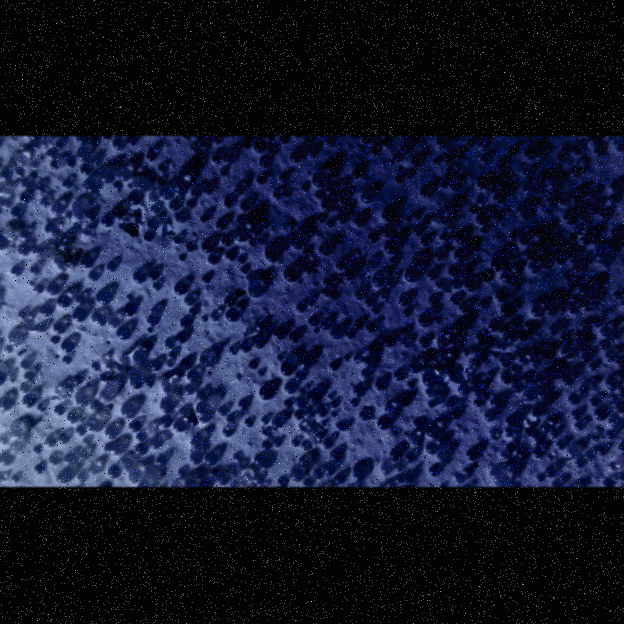GrassBeadSeg: (311, 171, 328, 188), (320, 197, 336, 213), (287, 466, 303, 482), (421, 372, 437, 388), (416, 312, 432, 328), (383, 239, 399, 255), (232, 226, 248, 242), (119, 403, 136, 418), (98, 169, 114, 184), (7, 331, 23, 346), (403, 268, 419, 283), (371, 273, 387, 288), (282, 268, 299, 282), (104, 442, 123, 454), (172, 178, 187, 193), (198, 351, 213, 366), (279, 361, 294, 376), (158, 399, 174, 413), (424, 424, 440, 438), (115, 167, 131, 181), (83, 179, 99, 193), (71, 308, 87, 322), (340, 268, 357, 281), (247, 285, 264, 298), (264, 250, 280, 263), (288, 236, 304, 249), (56, 470, 72, 483), (534, 374, 550, 387), (32, 245, 49, 257), (225, 308, 239, 322), (258, 386, 272, 400), (95, 291, 110, 304), (499, 305, 514, 318), (49, 204, 64, 217), (489, 259, 504, 272), (44, 223, 59, 236), (317, 244, 333, 256), (375, 417, 391, 429), (271, 328, 287, 340), (172, 420, 188, 432), (295, 224, 311, 236), (449, 322, 465, 334), (298, 357, 314, 369), (203, 455, 217, 468), (127, 470, 141, 483), (55, 295, 69, 308), (106, 467, 121, 479), (351, 385, 366, 397), (103, 427, 118, 439), (126, 193, 141, 205), (282, 382, 297, 394), (200, 241, 215, 253), (250, 337, 265, 349), (78, 257, 93, 269), (560, 346, 575, 358), (562, 212, 575, 225), (39, 304, 52, 317), (173, 283, 187, 295), (397, 295, 411, 307), (387, 449, 401, 461), (367, 344, 381, 356), (329, 328, 344, 339), (126, 421, 141, 432), (489, 398, 504, 409), (218, 236, 234, 246), (46, 283, 59, 295), (530, 305, 543, 317), (435, 337, 448, 349), (544, 194, 557, 206), (548, 177, 561, 189), (578, 285, 591, 297), (591, 272, 604, 284), (515, 204, 528, 216), (434, 212, 447, 224), (107, 316, 120, 328), (116, 328, 129, 340), (179, 358, 192, 370), (132, 355, 145, 367), (186, 371, 199, 383), (253, 454, 266, 466), (270, 417, 283, 429), (89, 401, 102, 413), (188, 453, 201, 465), (132, 273, 146, 284), (86, 271, 100, 282), (426, 466, 440, 477), (21, 396, 35, 407), (60, 341, 74, 352), (456, 384, 470, 395), (121, 305, 135, 316), (464, 449, 478, 460), (158, 417, 172, 428), (148, 438, 162, 449), (521, 391, 535, 402), (380, 463, 392, 475), (527, 262, 539, 274), (398, 143, 410, 155), (336, 192, 348, 204), (359, 192, 371, 204), (289, 151, 301, 163), (222, 153, 234, 165), (159, 188, 171, 200), (146, 219, 158, 231), (111, 207, 123, 219), (100, 215, 112, 227), (597, 339, 609, 351), (500, 271, 512, 283), (419, 187, 431, 199), (566, 394, 579, 405), (134, 444, 147, 455), (393, 370, 406, 381), (403, 452, 416, 463), (65, 413, 78, 424), (52, 323, 65, 334), (568, 191, 581, 202), (396, 396, 409, 407), (406, 433, 419, 444), (584, 190, 597, 201), (174, 333, 187, 344), (140, 340, 153, 351), (179, 318, 192, 329), (177, 407, 190, 418), (293, 396, 306, 407), (98, 391, 111, 402), (75, 396, 88, 407), (84, 419, 97, 430), (287, 333, 301, 343), (482, 411, 496, 421), (424, 443, 438, 453), (329, 451, 343, 461), (407, 363, 421, 373), (246, 213, 260, 223), (191, 468, 205, 478), (579, 303, 594, 312), (214, 220, 226, 231), (523, 149, 535, 160), (436, 451, 448, 462), (91, 314, 103, 325), (521, 184, 533, 195), (435, 136, 447, 147), (258, 156, 269, 168), (252, 141, 264, 152), (187, 158, 199, 169), (112, 140, 124, 151), (382, 336, 394, 347), (505, 460, 516, 472), (607, 416, 619, 427), (605, 378, 616, 390), (511, 381, 522, 393), (500, 372, 511, 384), (464, 280, 475, 292), (367, 232, 378, 244), (381, 210, 392, 222), (0, 455, 12, 466), (238, 343, 251, 353), (223, 251, 236, 261), (492, 194, 505, 204), (411, 226, 424, 236), (607, 182, 620, 192), (129, 380, 142, 390), (544, 305, 557, 315), (173, 214, 187, 223), (494, 160, 505, 171), (477, 139, 488, 150), (410, 156, 421, 167), (418, 337, 429, 348), (516, 448, 527, 459), (489, 468, 500, 479), (594, 409, 605, 420), (479, 272, 490, 283), (433, 250, 444, 261), (419, 236, 430, 247), (453, 232, 464, 243), (453, 251, 464, 262), (475, 214, 486, 225), (353, 216, 364, 227), (155, 456, 167, 466), (334, 261, 346, 271), (586, 205, 598, 215), (471, 385, 483, 395), (598, 211, 610, 221), (75, 152, 87, 162), (9, 208, 21, 218), (222, 297, 235, 306), (335, 422, 348, 431), (301, 265, 314, 274), (299, 441, 312, 450), (603, 353, 616, 362), (352, 291, 365, 300), (530, 448, 543, 457), (363, 298, 376, 307), (375, 289, 388, 298), (547, 326, 558, 336), (454, 473, 465, 483), (412, 419, 423, 429), (0, 399, 10, 410), (126, 136, 137, 146), (79, 165, 90, 175), (17, 245, 28, 255), (472, 398, 484, 407), (343, 330, 355, 339), (491, 214, 503, 223), (48, 456, 60, 465), (134, 433, 146, 442), (606, 196, 618, 205), (319, 288, 331, 297), (70, 376, 82, 385), (392, 463, 404, 472), (445, 398, 457, 407), (318, 320, 330, 329), (522, 170, 534, 179), (462, 367, 474, 376), (609, 228, 621, 237), (379, 228, 391, 237), (460, 266, 473, 274), (215, 476, 228, 484), (277, 136, 290, 144), (339, 179, 349, 189), (239, 202, 249, 212), (155, 177, 165, 187), (145, 152, 155, 162), (90, 157, 100, 167), (150, 361, 160, 371), (183, 296, 193, 306), (225, 414, 235, 424), (237, 399, 247, 409), (189, 437, 199, 447), (328, 361, 338, 371), (360, 369, 370, 379), (333, 474, 343, 484), (276, 477, 286, 487), (566, 304, 576, 314), (74, 426, 84, 436), (207, 256, 218, 265), (294, 304, 305, 313), (449, 410, 460, 419), (33, 465, 44, 474), (200, 275, 211, 284), (105, 263, 116, 272), (351, 321, 362, 330), (307, 317, 318, 326), (487, 431, 498, 440), (397, 329, 409, 337), (518, 236, 527, 246), (313, 190, 323, 199), (587, 136, 597, 145), (534, 232, 544, 241), (561, 272, 571, 281), (553, 256, 563, 265), (570, 147, 580, 156), (555, 153, 565, 162), (592, 147, 602, 156), (595, 253, 604, 263), (494, 182, 504, 191), (403, 171, 413, 180), (465, 139, 475, 148), (356, 160, 366, 169), (278, 174, 288, 183), (267, 146, 276, 156), (255, 176, 265, 185), (211, 136, 221, 145), (202, 186, 212, 195), (222, 199, 232, 208), (233, 187, 243, 196), (157, 164, 167, 173), (190, 190, 200, 199), (168, 202, 178, 211), (112, 181, 122, 190), (148, 193, 157, 203), (142, 233, 152, 242), (61, 180, 71, 189), (34, 183, 43, 193), (19, 194, 29, 203), (21, 180, 30, 190), (29, 266, 39, 275), (10, 267, 20, 276), (167, 350, 177, 359), (210, 312, 219, 322), (183, 386, 193, 395), (187, 416, 196, 426), (260, 441, 270, 450), (304, 409, 314, 418), (283, 399, 292, 409), (352, 472, 362, 481), (308, 392, 318, 401), (358, 411, 368, 420), (298, 457, 307, 467), (294, 372, 304, 381), (446, 349, 456, 358), (471, 347, 480, 357), (517, 356, 527, 365), (499, 328, 509, 337), (544, 467, 553, 477), (604, 431, 614, 440), (590, 318, 600, 327), (557, 333, 566, 343), (599, 328, 609, 337), (458, 303, 467, 313), (337, 214, 346, 224), (88, 466, 98, 475), (77, 450, 86, 460), (63, 455, 73, 464), (75, 473, 85, 482), (57, 434, 66, 444), (404, 381, 415, 389), (424, 389, 435, 397), (352, 356, 363, 364), (331, 277, 342, 285), (536, 244, 545, 253), (572, 242, 581, 251), (536, 152, 545, 161), (570, 168, 579, 177), (571, 264, 580, 273), (608, 136, 617, 145), (449, 182, 458, 191), (479, 156, 488, 165), (351, 170, 360, 179), (326, 185, 335, 194), (272, 190, 281, 199), (241, 140, 250, 149), (211, 155, 220, 164), (200, 141, 209, 150), (189, 144, 198, 153), (185, 200, 194, 209), (150, 205, 159, 214), (85, 211, 94, 220), (39, 199, 48, 208), (33, 285, 42, 294), (164, 340, 173, 349), (146, 316, 155, 325), (228, 346, 237, 355), (248, 360, 257, 369), (222, 428, 231, 437), (217, 407, 226, 416), (243, 418, 252, 427), (312, 470, 321, 479), (282, 410, 291, 419), (322, 440, 331, 449), (323, 466, 332, 475), (302, 478, 311, 487), (316, 408, 325, 417), (474, 333, 483, 342), (449, 338, 458, 347), (374, 381, 383, 390), (384, 404, 393, 413), (365, 324, 374, 333), (498, 356, 507, 365), (487, 324, 496, 333), (561, 376, 570, 385), (539, 423, 548, 432), (555, 441, 564, 450), (583, 451, 592, 460), (601, 478, 610, 487), (596, 447, 605, 456), (588, 397, 597, 406), (580, 354, 589, 363), (451, 280, 460, 289), (428, 297, 437, 306), (449, 296, 458, 305), (477, 300, 486, 309), (494, 293, 503, 302), (446, 268, 455, 277), (426, 271, 435, 280), (523, 251, 532, 260), (508, 233, 517, 242), (389, 257, 398, 266), (315, 214, 324, 223), (236, 256, 245, 265), (44, 438, 53, 447), (401, 309, 411, 317), (61, 356, 71, 364), (293, 411, 303, 419), (573, 423, 583, 431), (570, 411, 580, 419), (239, 266, 249, 274), (74, 297, 84, 305), (257, 323, 267, 331), (369, 148, 379, 156), (147, 272, 157, 280), (151, 283, 162, 290), (301, 249, 312, 256), (578, 236, 587, 244), (235, 216, 244, 224), (565, 254, 574, 262), (506, 148, 515, 156), (441, 156, 450, 164), (438, 180, 446, 189), (300, 183, 308, 192), (0, 172, 8, 181), (574, 459, 582, 468), (468, 207, 476, 215), (392, 154, 400, 162), (394, 176, 402, 184), (453, 153, 461, 161), (380, 139, 388, 147), (326, 148, 334, 156), (324, 139, 332, 147), (307, 151, 315, 159), (3, 346, 11, 354), (23, 374, 31, 382), (19, 385, 27, 393), (422, 216, 430, 224), (325, 220, 333, 228), (330, 169, 338, 177), (256, 370, 265, 377), (370, 308, 379, 315), (125, 295, 134, 302), (427, 400, 436, 407), (0, 437, 9, 444), (187, 309, 196, 316), (276, 355, 284, 362), (560, 243, 568, 250), (578, 216, 586, 223), (18, 311, 25, 319), (20, 362, 27, 370), (49, 337, 57, 344), (90, 363, 98, 370), (99, 376, 107, 383), (99, 357, 107, 364), (104, 404, 112, 411), (176, 472, 184, 479), (195, 394, 203, 401), (198, 416, 206, 423), (231, 454, 239, 461), (236, 463, 244, 470), (290, 440, 298, 447), (329, 401, 337, 408), (461, 349, 469, 356), (537, 392, 545, 399), (523, 323, 531, 330), (549, 431, 557, 438), (503, 430, 511, 437), (505, 445, 513, 452), (534, 475, 542, 482), (587, 364, 595, 371), (578, 323, 586, 330), (570, 296, 578, 303), (571, 227, 579, 234), (588, 433, 596, 440), (614, 360, 622, 367), (10, 475, 18, 482), (11, 433, 19, 440), (36, 405, 44, 412), (53, 408, 61, 415), (32, 446, 40, 453), (412, 213, 419, 220), (219, 170, 226, 177), (118, 356, 125, 363), (165, 360, 172, 367), (195, 408, 202, 415), (229, 471, 236, 478), (272, 440, 279, 447), (260, 417, 267, 424), (505, 418, 512, 425), (530, 358, 537, 365), (518, 334, 525, 341), (499, 452, 506, 459), (546, 454, 553, 461), (574, 333, 581, 340), (608, 463, 615, 470), (610, 401, 617, 408), (82, 438, 89, 445), (329, 411, 337, 417), (242, 473, 250, 479), (252, 476, 260, 482), (208, 471, 216, 477), (349, 400, 357, 406), (566, 283, 574, 289), (582, 225, 590, 231), (311, 328, 318, 334), (432, 159, 439, 165), (479, 227, 486, 233), (73, 214, 80, 220), (50, 164, 57, 170), (27, 314, 34, 320), (116, 366, 123, 372), (434, 282, 441, 288), (386, 282, 393, 288), (612, 293, 619, 299), (451, 216, 457, 222), (404, 216, 410, 222), (477, 184, 483, 190), (484, 187, 490, 193), (199, 217, 205, 223), (173, 238, 179, 244), (178, 256, 184, 262), (82, 230, 88, 236), (65, 214, 71, 220), (67, 162, 73, 168), (58, 266, 64, 272), (59, 243, 65, 249), (297, 388, 303, 394), (261, 430, 267, 436), (468, 359, 474, 365), (441, 357, 447, 363), (394, 271, 400, 277), (402, 342, 408, 348), (449, 137, 455, 142), (387, 160, 393, 165), (368, 140, 374, 145), (282, 193, 288, 198), (21, 235, 27, 240), (62, 237, 68, 242), (146, 383, 152, 388), (146, 328, 152, 333), (201, 317, 207, 322), (303, 384, 309, 389), (326, 394, 332, 399), (311, 440, 317, 445), (316, 435, 321, 441), (342, 356, 348, 361), (363, 361, 369, 366), (487, 372, 493, 377), (251, 230, 257, 235), (248, 241, 253, 247), (440, 329, 446, 334), (433, 319, 439, 324), (473, 363, 478, 368), (364, 263, 369, 268), (257, 240, 262, 245), (298, 426, 302, 430), (310, 419, 314, 423), (433, 359, 437, 363), (498, 386, 502, 390), (398, 340, 402, 344), (348, 383, 352, 386), (210, 261, 210, 262)
